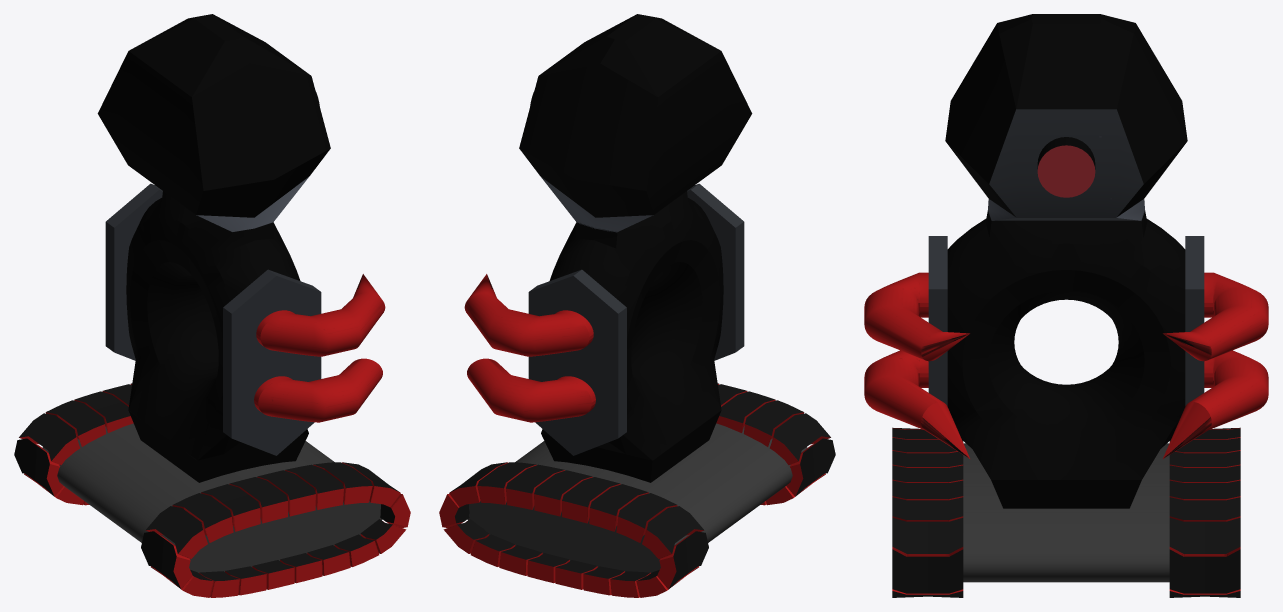
The model's file is Robot2.fbx.
The picture shows the model from 3 angles, left to right: view 1: azimuth 30°, elevation 25°; view 2: azimuth 150°, elevation 25°; view 3: azimuth 270°, elevation 25°; orthographic projection. The views are drawn at different scales.
Parts seen in each view (by area): view 1: Cube.002, Cube, Cube.001, Cube.003; view 2: Cube.002, Cube, Cube.001, Cube.003; view 3: Cube.002, Cube.001, Cube, Cube.003.
Boxes of the visible parts, x1,y1,x2,y2 form: Cube.002: (97, 14, 330, 482); Cube: (14, 383, 410, 597); Cube.001: (105, 183, 385, 455); Cube.003: (42, 423, 382, 572); Cube.002: (519, 14, 752, 482); Cube: (439, 383, 835, 597); Cube.001: (464, 183, 744, 455); Cube.003: (467, 423, 807, 572); Cube.002: (945, 14, 1187, 508); Cube.001: (864, 236, 1268, 458); Cube: (892, 427, 1240, 597); Cube.003: (963, 443, 1169, 582).
Size of the model in its own units: 702 by 1405 by 947.
